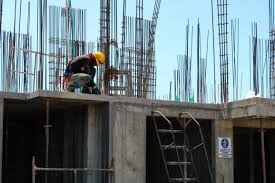helmet: (90, 48, 106, 64)
leg: (68, 74, 93, 90)
noglove: (92, 84, 102, 95)
novest: (64, 52, 89, 72)
